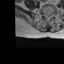CCS_normal: (47, 15, 49, 21)
LFS_normal: (51, 12, 53, 18)
LLS_normal: (49, 14, 51, 20)
RFS_stenosis: (43, 13, 45, 18)
RLS_normal: (45, 14, 47, 20)
